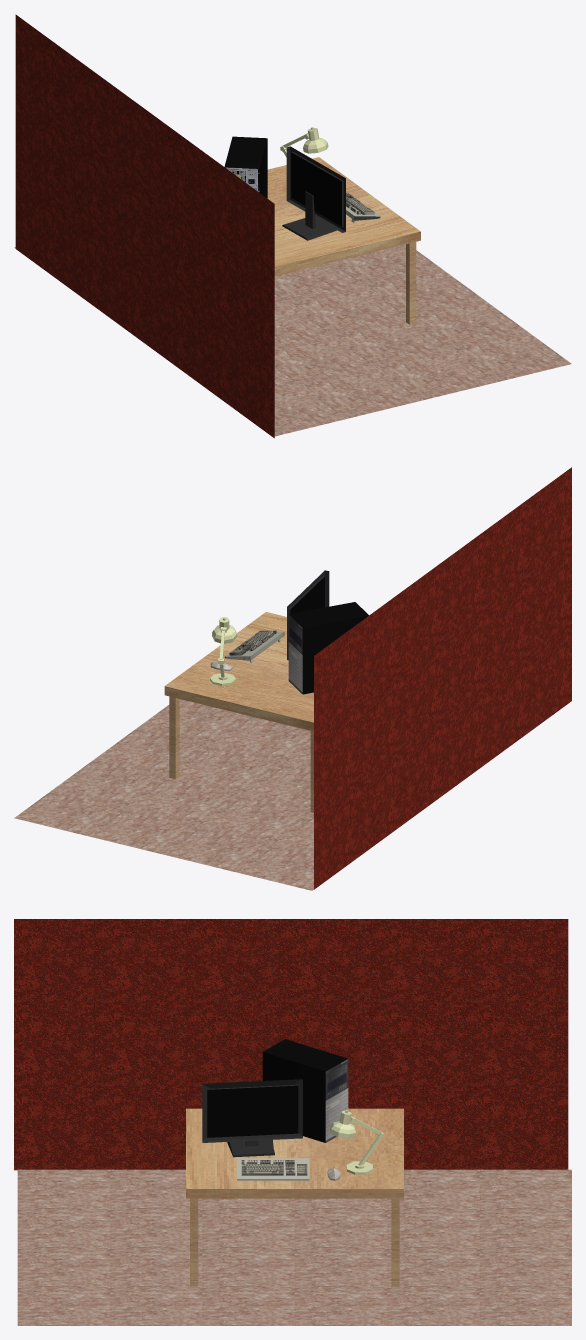
3 renders of one model, top to bottom at view 1: azimuth 30°, elevation 25°; view 2: azimuth 150°, elevation 25°; view 3: azimuth 270°, elevation 25°, orthographic. The views are drawn at different scales.
Parts seen in each view (by area): view 1: Table, Screen, Plane.004, Plane.010, Plane.011, Plane.014, Plane, Plane.002, Plane.003, Plane.006, Plane.015, Plane.017 (+22 smaller); view 2: Table, Computer, Plane.002, Plane.003, Plane.008, Plane.009, Plane.014, Plane.015, Plane, Plane.001, Plane.004, Plane.005 (+23 smaller); view 3: Table, Plane.010, Plane.007, Plane.008, Plane.009, Plane.003, Plane.002, Plane.012, Plane.013, Plane.014, Plane.015, Plane.016 (+33 smaller).
Part boxes in pixels (x1=…): Table: x1=267, y1=157, x2=420, y2=324; Screen: x1=282, y1=146, x2=345, y2=240; Plane.004: x1=188, y1=297, x2=231, y2=406; Plane.010: x1=188, y1=219, x2=231, y2=328; Plane.011: x1=145, y1=187, x2=188, y2=296; Plane.014: x1=15, y1=14, x2=58, y2=123; Plane: x1=102, y1=234, x2=145, y2=343; Plane.002: x1=15, y1=171, x2=58, y2=280; Plane.003: x1=231, y1=329, x2=274, y2=438; Plane.006: x1=102, y1=156, x2=145, y2=265; Plane.015: x1=231, y1=173, x2=274, y2=281; Plane.017: x1=145, y1=109, x2=188, y2=218; Table: x1=164, y1=612, x2=313, y2=812; Computer: x1=288, y1=602, x2=368, y2=694; Plane.002: x1=314, y1=780, x2=356, y2=889; Plane.003: x1=529, y1=623, x2=571, y2=732; Plane.008: x1=314, y1=702, x2=356, y2=811; Plane.009: x1=529, y1=545, x2=571, y2=654; Plane.014: x1=314, y1=624, x2=356, y2=733; Plane.015: x1=529, y1=467, x2=571, y2=576; Plane: x1=400, y1=718, x2=442, y2=826; Plane.001: x1=357, y1=749, x2=399, y2=857; Plane.004: x1=486, y1=655, x2=528, y2=763; Plane.005: x1=443, y1=686, x2=485, y2=794; Table: x1=186, y1=1108, x2=403, y2=1286; Plane.010: x1=106, y1=1002, x2=198, y2=1086; Plane.007: x1=383, y1=1002, x2=475, y2=1086; Plane.008: x1=476, y1=1002, x2=568, y2=1086; Plane.009: x1=14, y1=1002, x2=106, y2=1086; Plane.003: x1=14, y1=1086, x2=106, y2=1170; Plane.002: x1=476, y1=1086, x2=568, y2=1169; Plane.012: x1=291, y1=919, x2=383, y2=1002; Plane.013: x1=383, y1=919, x2=475, y2=1002; Plane.014: x1=476, y1=919, x2=568, y2=1002; Plane.015: x1=14, y1=919, x2=106, y2=1002; Plane.016: x1=106, y1=919, x2=198, y2=1002.
Size of the model in its own units: 8 by 6.03 by 12.08.
9 materials, 6 textured.
